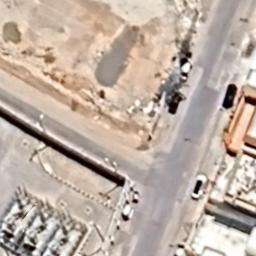sedan: (190, 174, 208, 200), (222, 83, 238, 109)
unknown: (168, 92, 182, 115)
